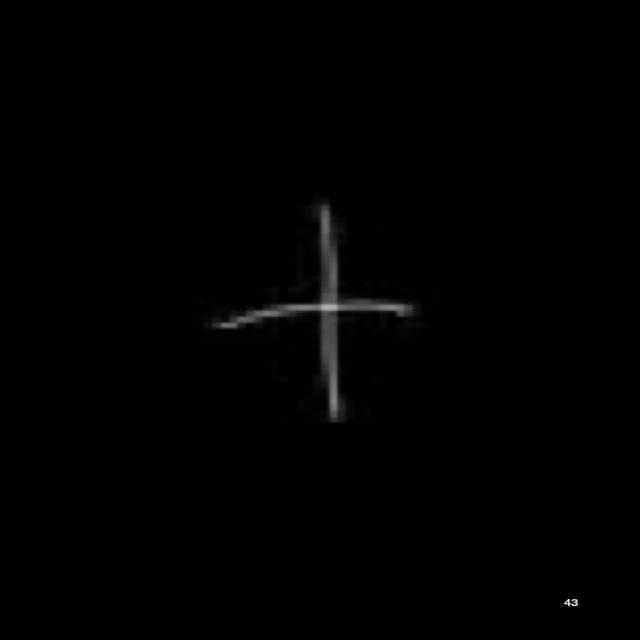10 -ten-: (202, 194, 424, 435)
